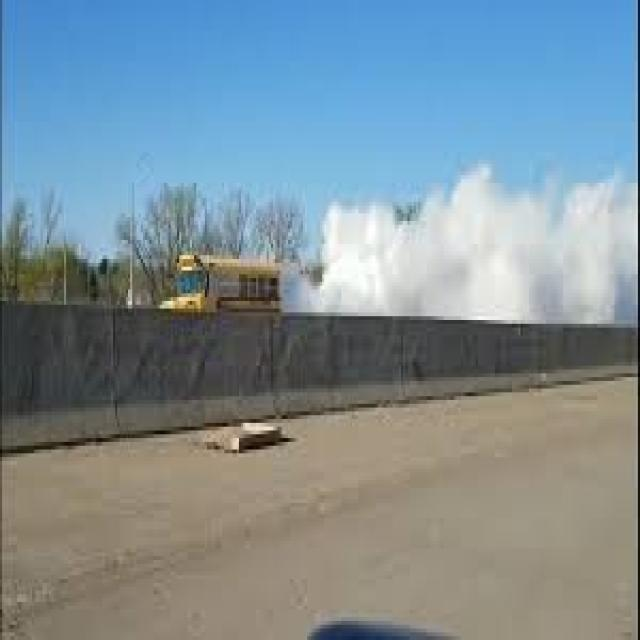Smoke: (273, 162, 640, 327)
